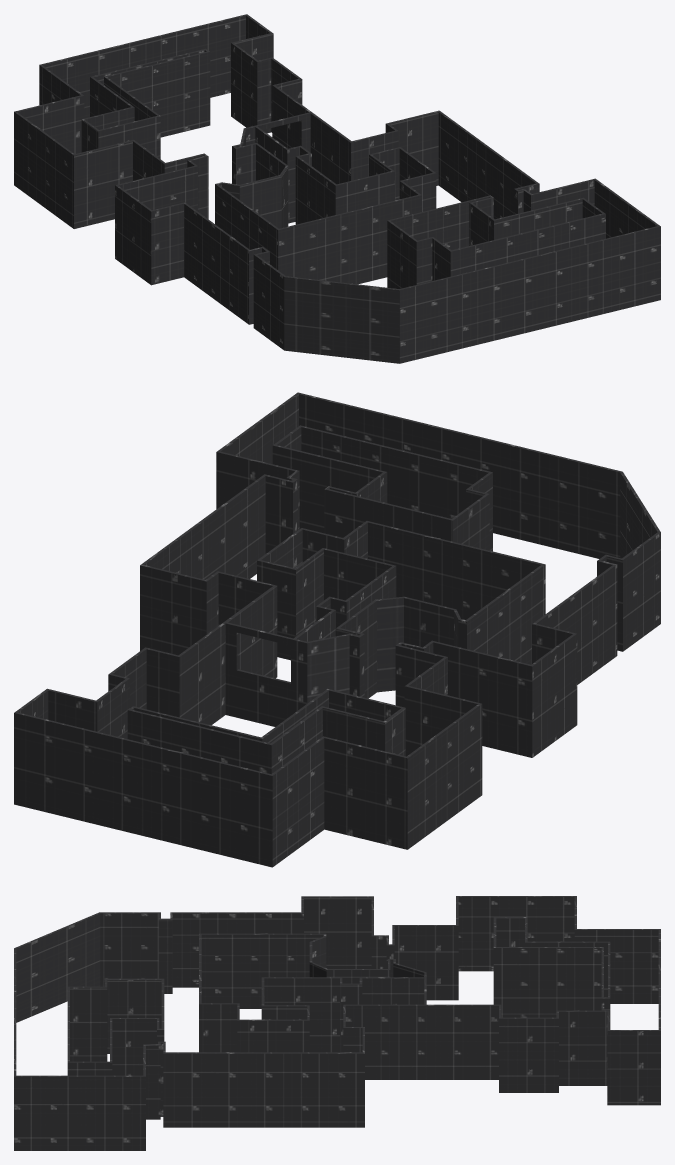
The model's file is Bind_Walls 1.fbx.
3 renders of one model, top to bottom at view 1: azimuth 30°, elevation 25°; view 2: azimuth 150°, elevation 25°; view 3: azimuth 270°, elevation 25°, orthographic. The views are drawn at different scales.
Visible parts, largest first — view 1: Plane; view 2: Plane; view 3: Plane.
Part boxes in pixels (<box>): Plane: <box>14,14,660,363</box>; Plane: <box>14,392,660,867</box>; Plane: <box>14,896,660,1150</box>.
Size of the model in its own units: 34.54 by 6.61 by 52.25.
